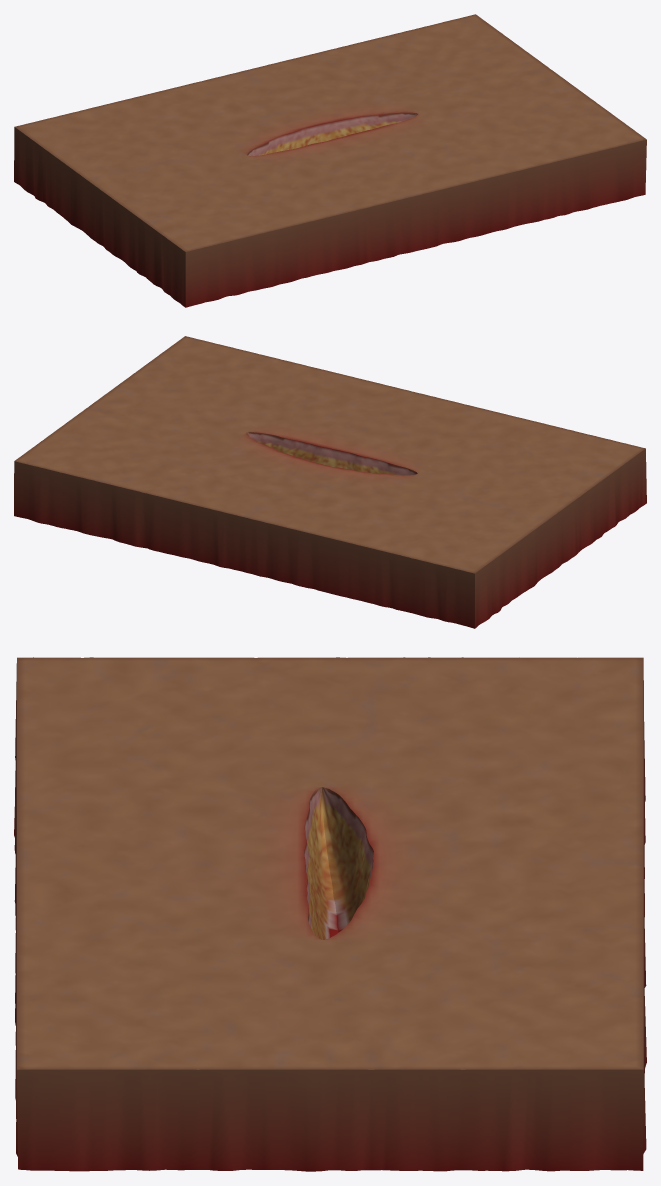
The model's file is pad_deep.glb.
3 views of the same model, one above another, from view 1: azimuth 30°, elevation 25°; view 2: azimuth 150°, elevation 25°; view 3: azimuth 270°, elevation 25° (orthographic). The views are drawn at different scales.
Visible parts, largest first — view 1: pad_deep; view 2: pad_deep; view 3: pad_deep.
Boxes of the visible parts, <box> form: pad_deep: <box>14,14,646,307</box>; pad_deep: <box>14,336,646,628</box>; pad_deep: <box>14,657,646,1171</box>.
Bounding box in the file's own units: 14.08 × 1.61 × 9.09.
